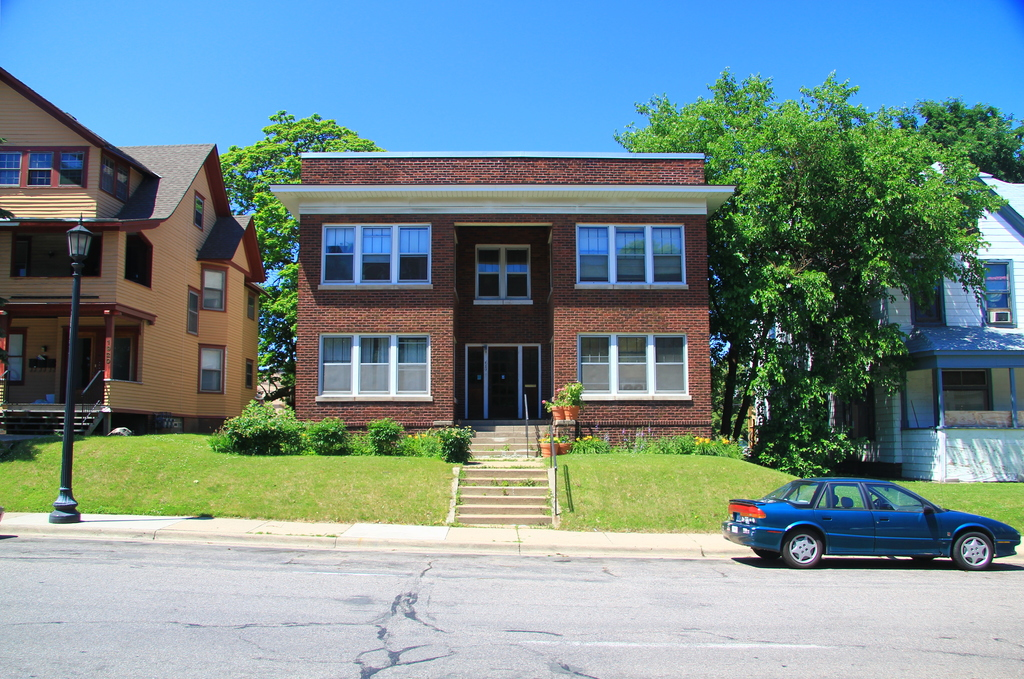Car: (730, 462, 1001, 574)
